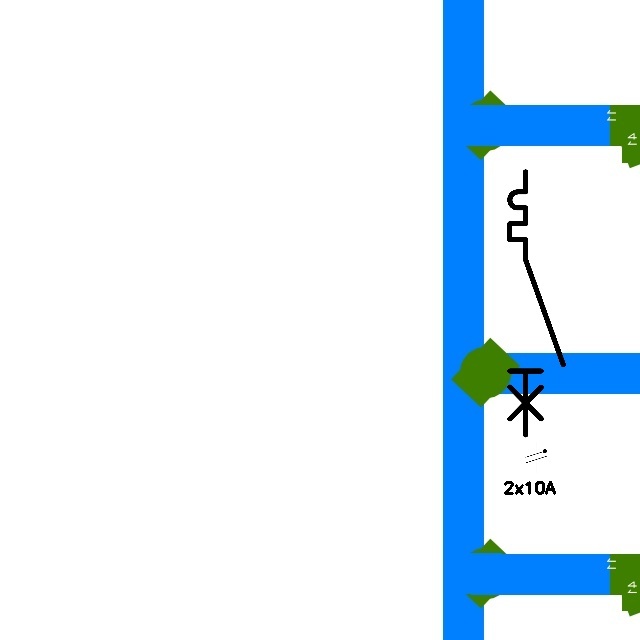interruptor_termomagnetico: (503, 165, 570, 441)
